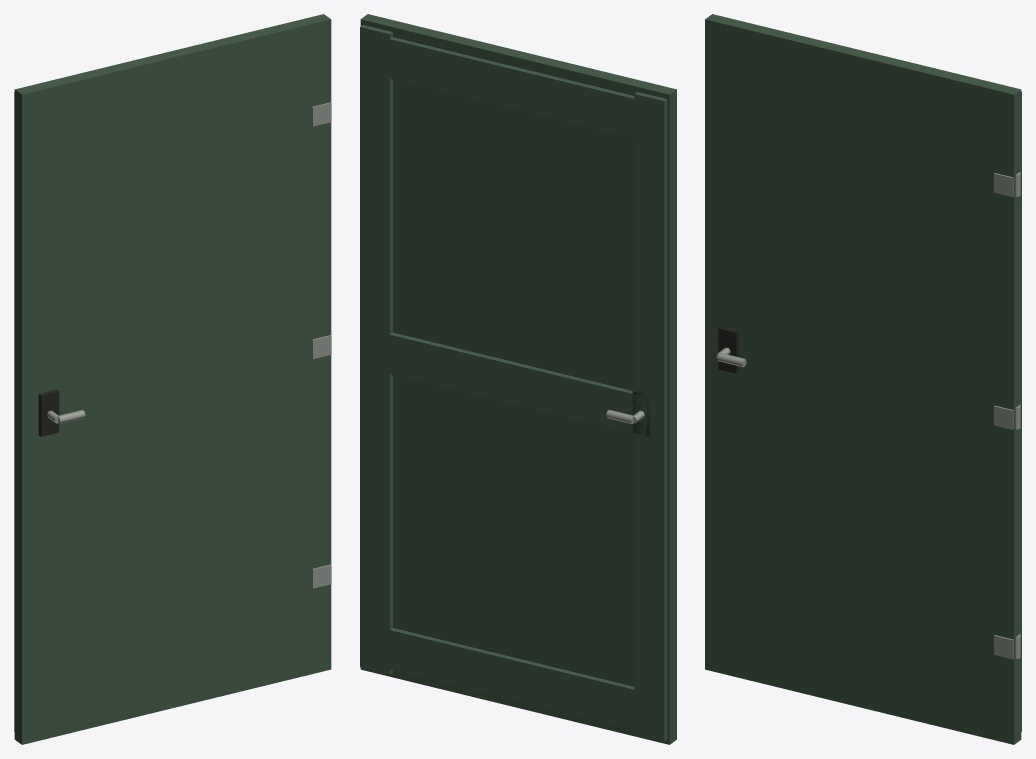
Rendered from SM_FieldStation_Hut_Door_LOD2.fbx.
The picture shows the model from 3 angles, left to right: view 1: azimuth 30°, elevation 25°; view 2: azimuth 150°, elevation 25°; view 3: azimuth 330°, elevation 25°; orthographic projection.
Parts seen in each view (by area): view 1: SM_FieldStation_Hut_Door_LOD2; view 2: SM_FieldStation_Hut_Door_LOD2; view 3: SM_FieldStation_Hut_Door_LOD2.
Part boxes in pixels (x1,y1,x2,y2): SM_FieldStation_Hut_Door_LOD2: (14,14,331,744); SM_FieldStation_Hut_Door_LOD2: (360,14,676,744); SM_FieldStation_Hut_Door_LOD2: (705,14,1021,744).
Bounding box in the file's own units: 0.989 × 0.184 × 1.97.
